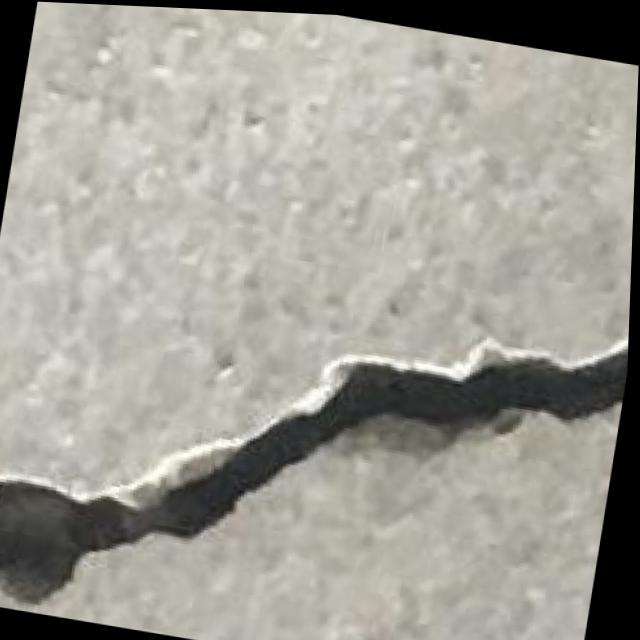Crack: (0, 254, 617, 640)
